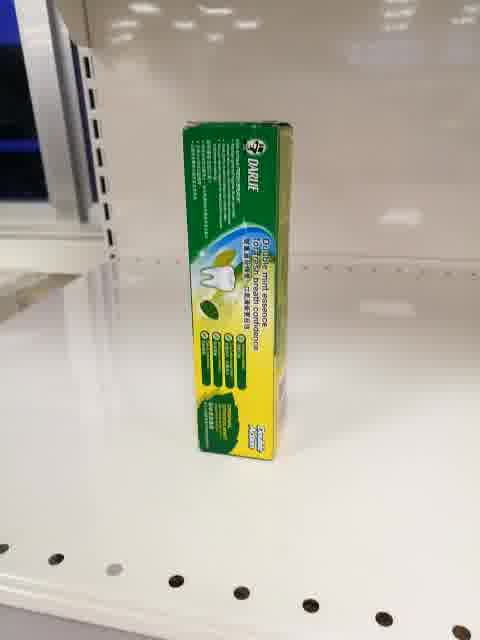toothpaste: (182, 121, 292, 461)
